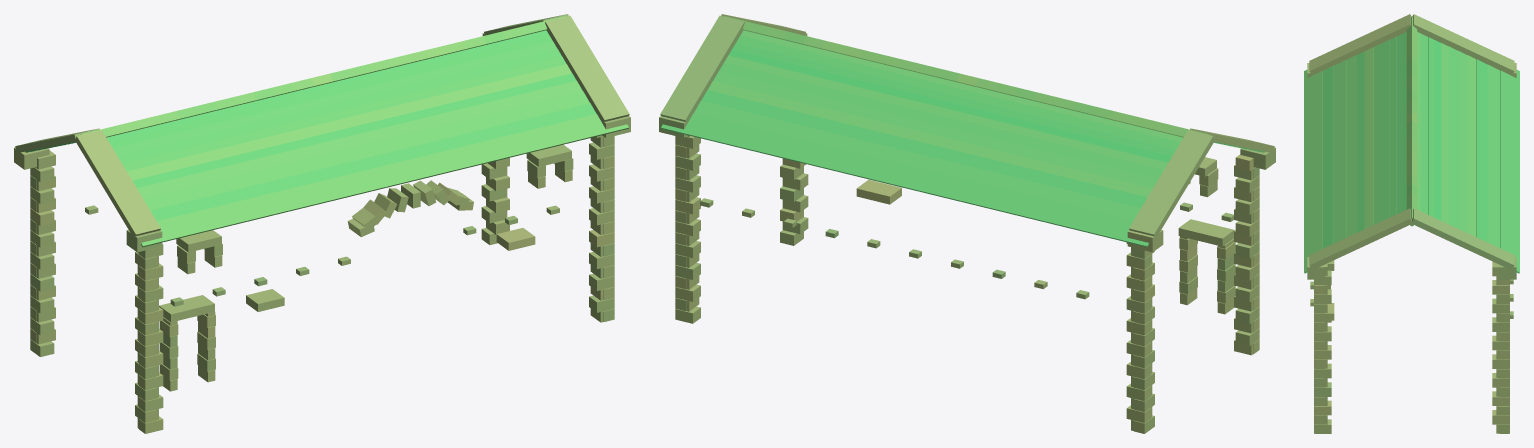
File: SM_Bld_215_Stone.glb
3 views of the same model, side by side, from view 1: azimuth 30°, elevation 25°; view 2: azimuth 150°, elevation 25°; view 3: azimuth 270°, elevation 25° (orthographic). The views are drawn at different scales.
Visible parts, largest first — view 1: SM_Bld_215_Stone; view 2: SM_Bld_215_Stone; view 3: SM_Bld_215_Stone.
Boxes of the visible parts, <box> form: SM_Bld_215_Stone: <box>14,14,630,433</box>; SM_Bld_215_Stone: <box>659,14,1275,433</box>; SM_Bld_215_Stone: <box>1304,14,1519,433</box>.
Size of the model in its own units: 14.18 by 7.12 by 6.32.
